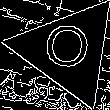O_S: (41, 22, 94, 79)
